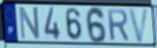4: (43, 7, 62, 42)
6: (85, 5, 108, 45), (65, 7, 84, 42)
N: (18, 5, 41, 41)
R: (106, 8, 130, 42)
V: (127, 8, 151, 44)
